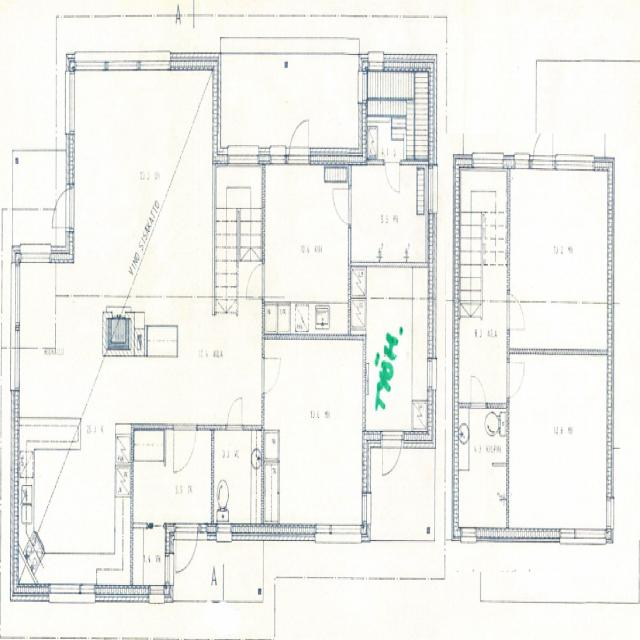door: (170, 421, 198, 476), (287, 112, 312, 166), (175, 520, 199, 574), (50, 182, 74, 235), (380, 428, 402, 479), (331, 180, 353, 226), (260, 351, 283, 395), (532, 126, 554, 172), (505, 290, 527, 334), (244, 259, 265, 303), (505, 356, 526, 398), (225, 391, 245, 431), (469, 370, 487, 408), (384, 157, 402, 195)
window: (45, 574, 96, 605), (314, 518, 362, 544), (559, 522, 607, 546), (64, 66, 78, 142), (10, 256, 22, 334), (554, 152, 594, 174), (18, 242, 54, 266), (225, 144, 261, 168), (471, 147, 505, 171), (426, 163, 438, 215), (604, 494, 616, 534), (427, 352, 438, 394), (269, 145, 288, 168), (148, 581, 167, 604), (360, 489, 371, 527), (513, 149, 531, 169), (460, 524, 477, 542)
zone: (71, 65, 193, 298), (265, 336, 365, 527), (508, 165, 610, 350), (507, 352, 610, 533), (20, 439, 131, 583), (264, 163, 350, 335), (363, 269, 431, 433), (350, 161, 429, 267), (213, 160, 262, 314), (11, 143, 67, 251), (212, 425, 263, 531), (457, 318, 508, 404), (16, 255, 58, 351), (132, 423, 170, 524), (454, 464, 508, 533), (457, 404, 508, 466), (132, 523, 171, 593)
